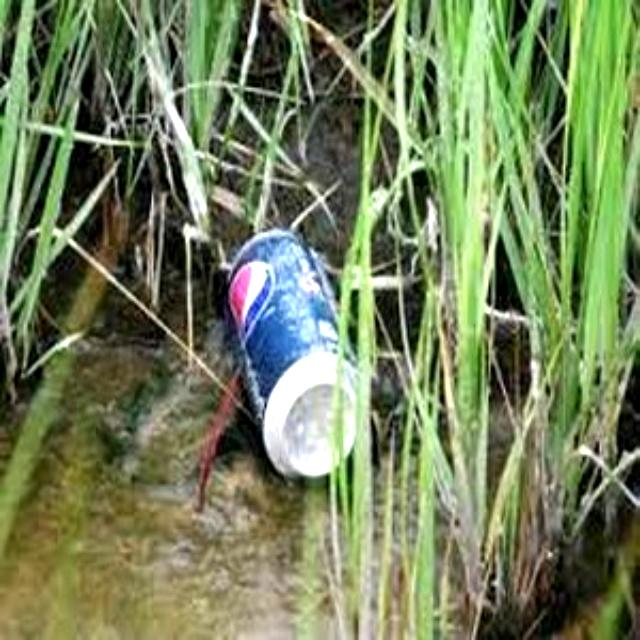Metal: (233, 225, 363, 475)
